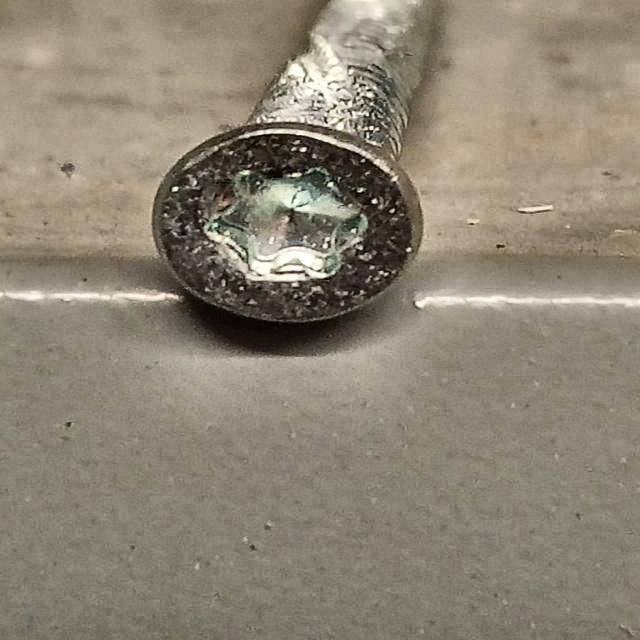torx: (151, 124, 425, 328)
